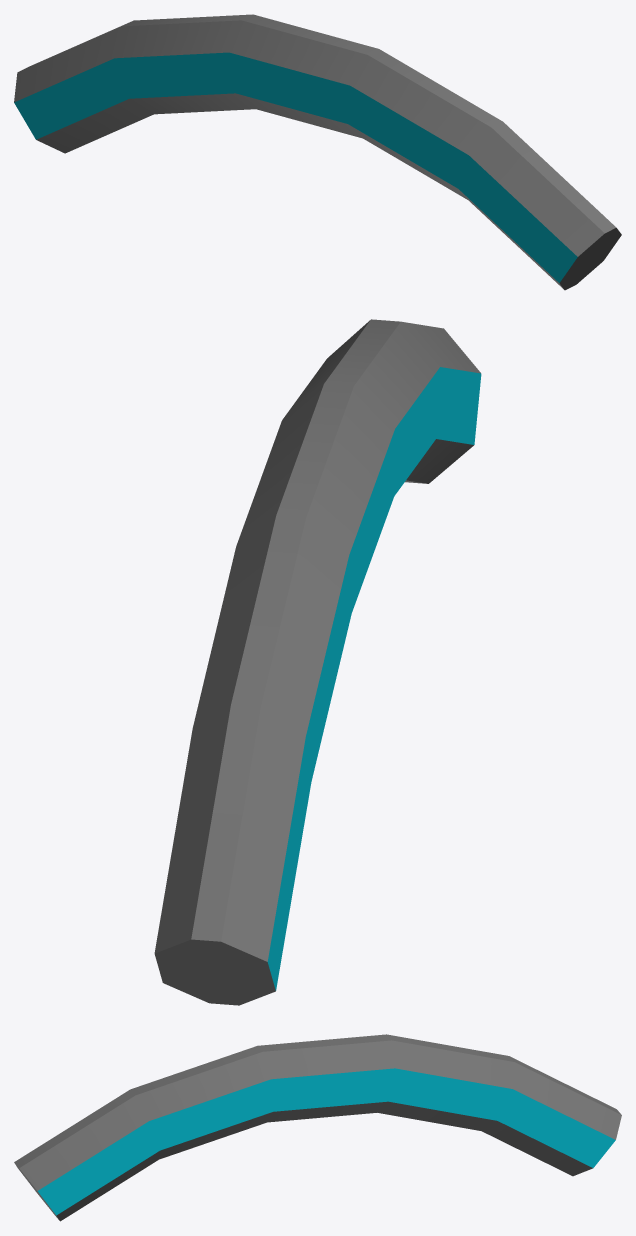
The model's file is PinnerCircle01.fbx.
The picture shows the model from 3 angles, top to bottom: view 1: azimuth 30°, elevation 25°; view 2: azimuth 150°, elevation 25°; view 3: azimuth 270°, elevation 25°; orthographic projection. The views are drawn at different scales.
Parts seen in each view (by area): view 1: PortalInnerRing; view 2: PortalInnerRing; view 3: PortalInnerRing.
Boxes of the visible parts, x1,y1,x2,y2 form: PortalInnerRing: (14,14,621,290); PortalInnerRing: (154,319,481,1005); PortalInnerRing: (14,1034,621,1221).
Size of the model in its own units: 41.64 by 29.93 by 95.7.
